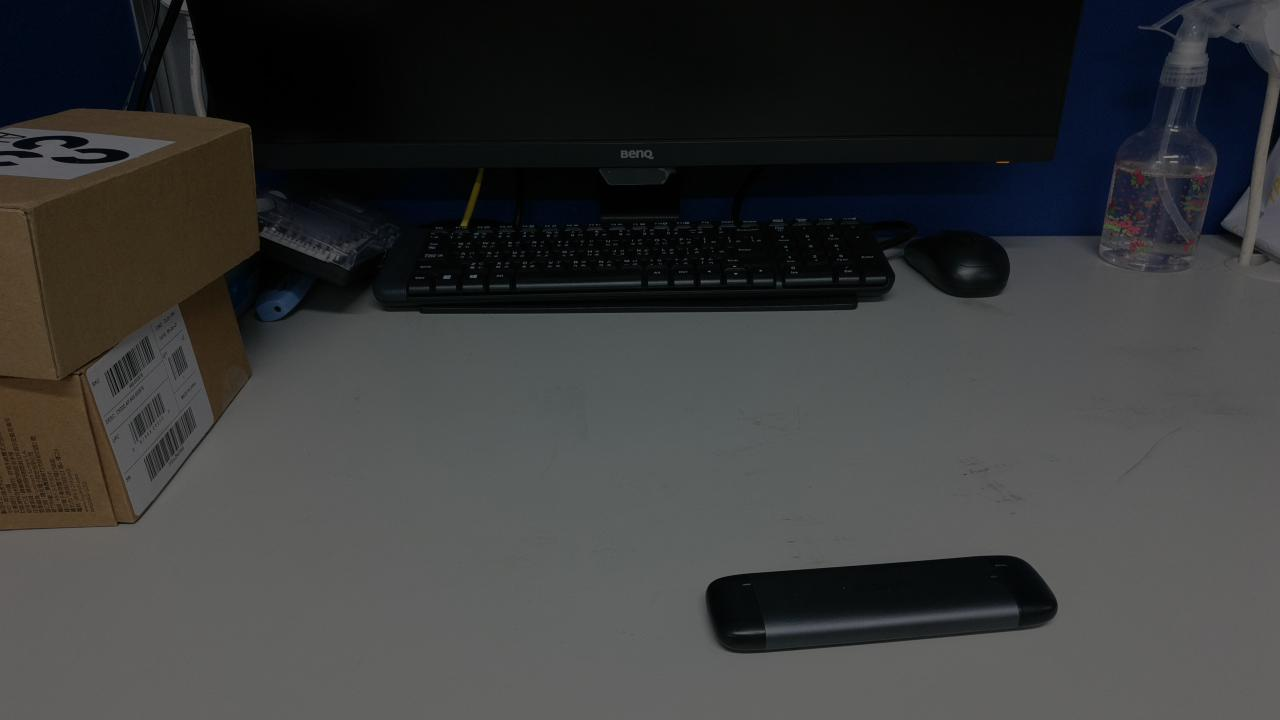blade: (876, 398, 910, 455)
grasp: (856, 450, 968, 526)
